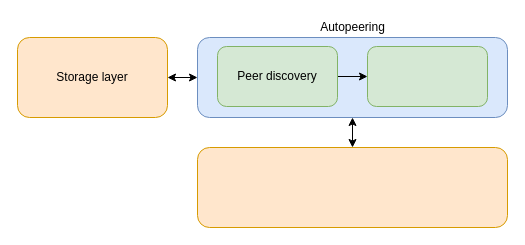
Image size: 525x245. Some labels were removed from this diagram. The shapes that lost their labels are listed below. From the top down, each one's centre as x and y in pixels, then its label:
(427,76): Neighbor selection
(352,187): Network layer
